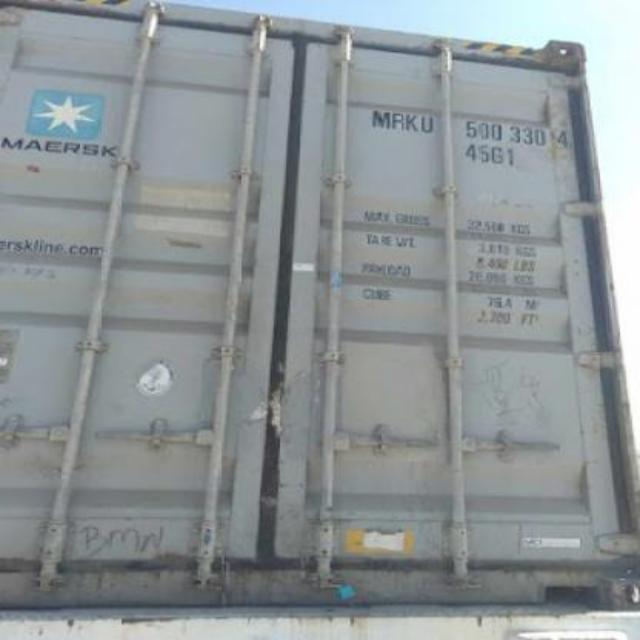0: (488, 122, 504, 142), (532, 128, 548, 148), (478, 120, 490, 142)
3: (508, 122, 522, 146), (522, 125, 534, 146)
4: (556, 130, 570, 148)
5: (462, 120, 478, 140)
K: (404, 112, 422, 134)
M: (371, 108, 392, 132)
R: (392, 111, 406, 132)
U: (418, 114, 438, 136)
